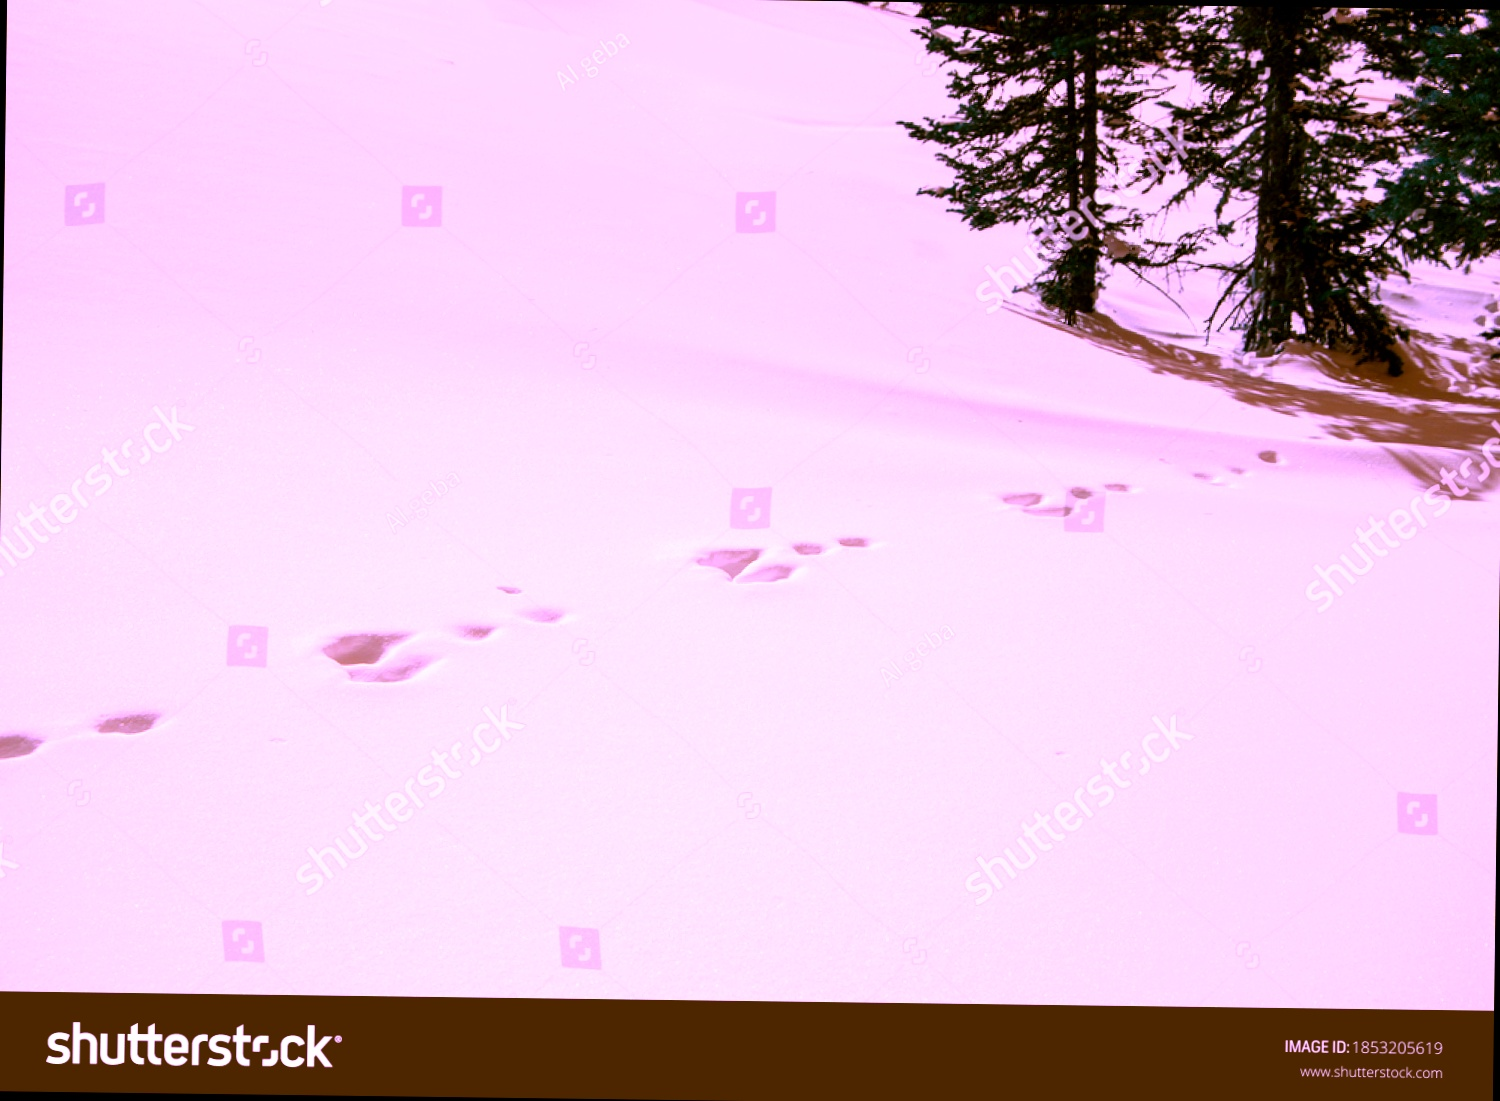lapin: (303, 576, 604, 700), (695, 503, 897, 586), (993, 456, 1149, 538), (92, 711, 185, 755), (1, 725, 63, 778), (1188, 453, 1227, 486)
